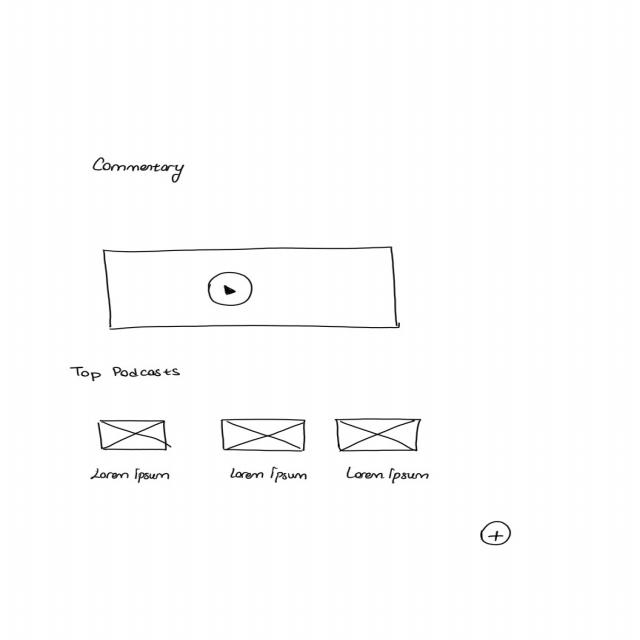icon-button: (480, 521, 513, 547)
image: (334, 417, 423, 455), (219, 418, 309, 455), (95, 419, 171, 453)
label: (90, 157, 188, 184), (70, 366, 184, 383), (342, 466, 431, 485), (228, 466, 310, 484), (91, 468, 174, 485)
